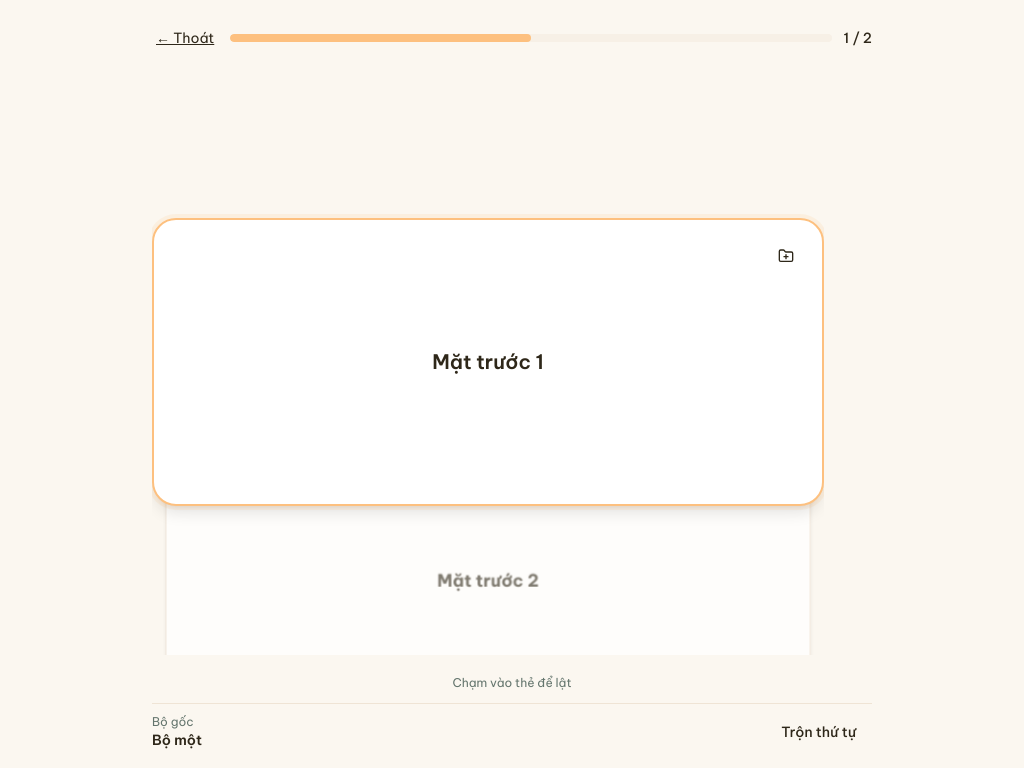
Test: StudySession › shows the completion screen on the last card instead of leaving the page
The width and height of the screenshot is (1024, 768).
Press ArrowDown
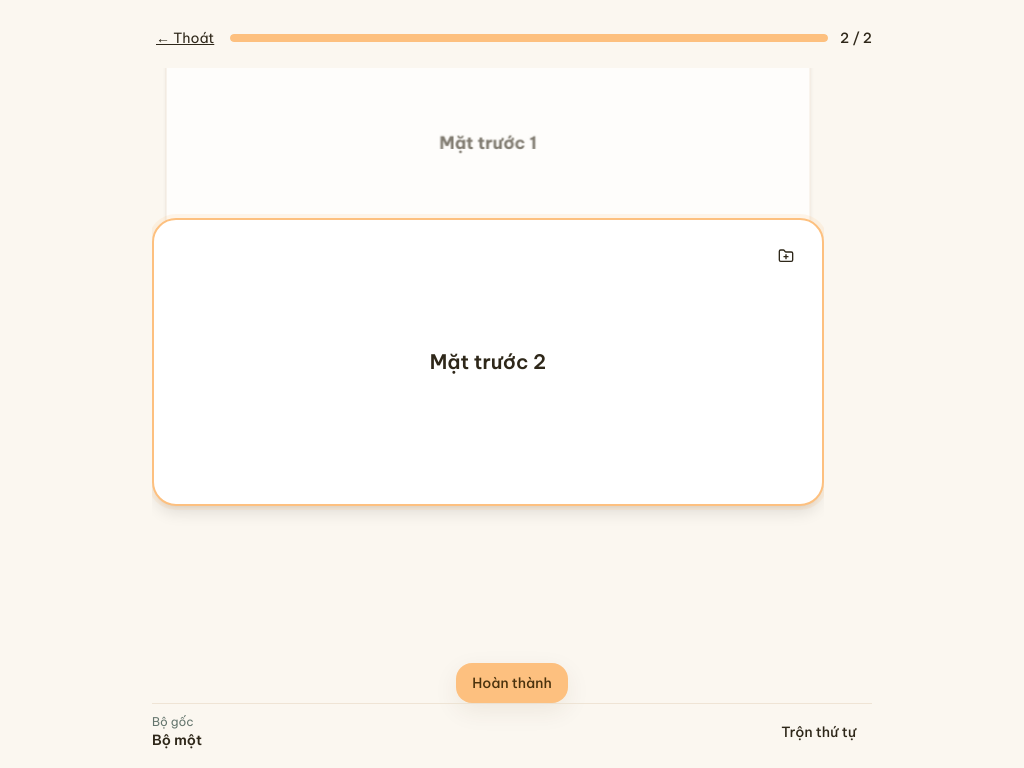
Click the button "Hoàn thành" at (512, 683), box [456,663,568,703]
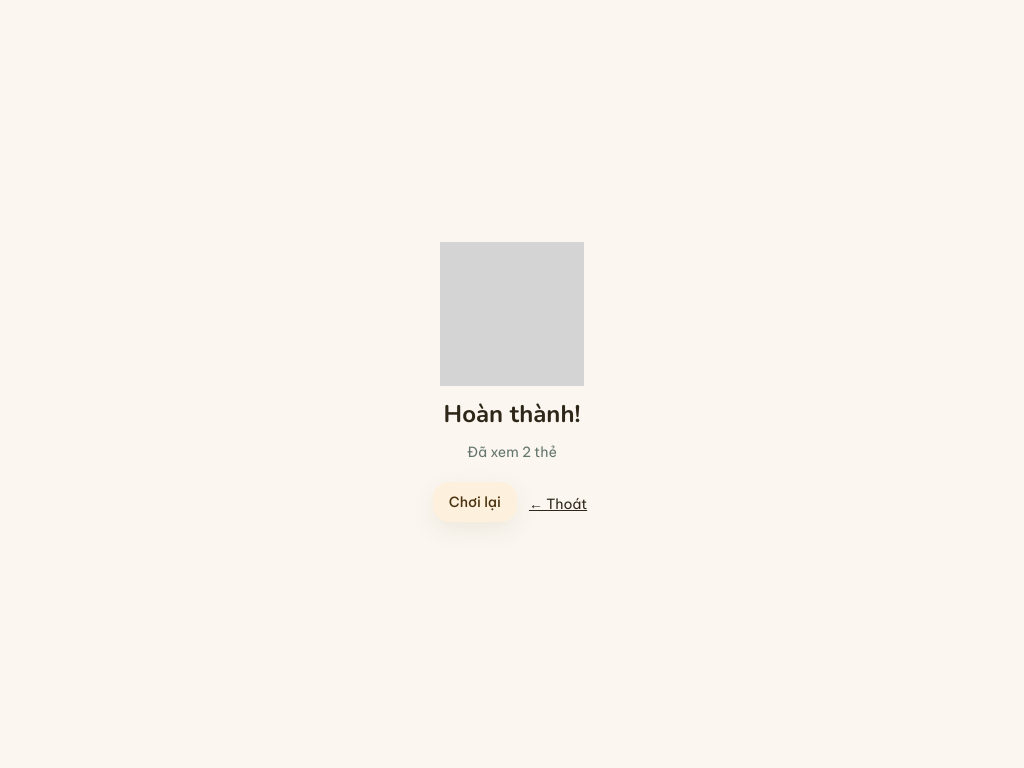
Check: the heading "Hoàn thành!" is shown, box [444,398,580,430]
Check: the text "Đã xem 2 thẻ" is shown, box [467,442,557,462]
